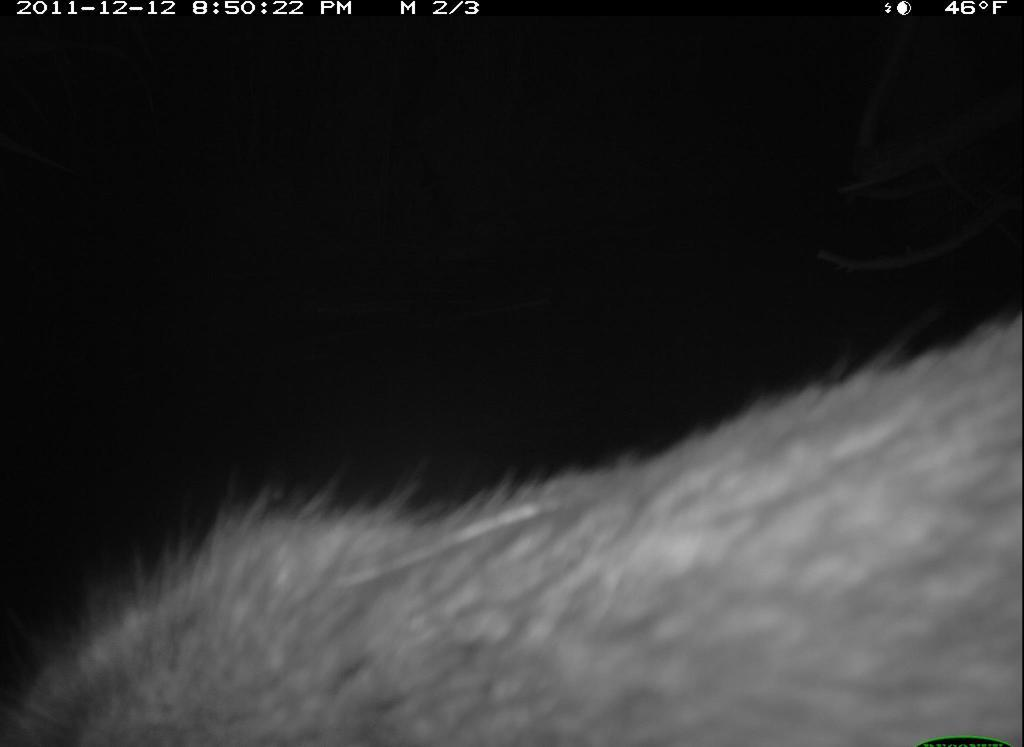raccoon: (12, 304, 1021, 747)
